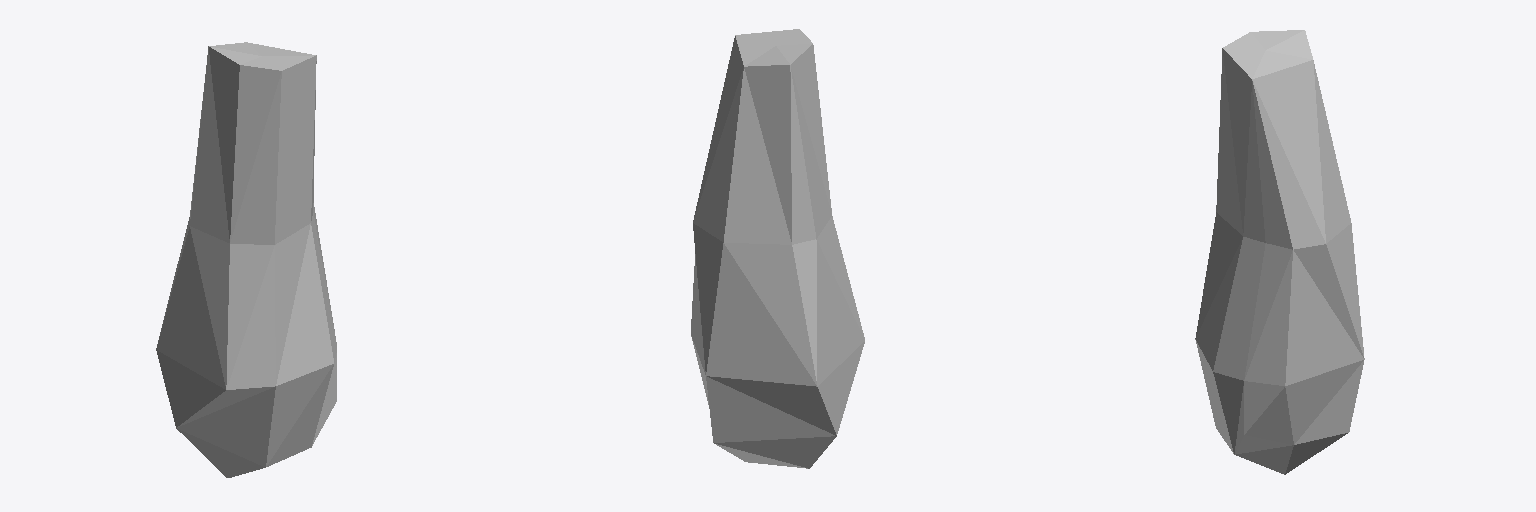
File: model_pillar_2.obj
3 renders of one model, left to right at view 1: azimuth 30°, elevation 25°; view 2: azimuth 150°, elevation 25°; view 3: azimuth 270°, elevation 25°, orthographic.
Visible parts, largest first — view 1: obj_pillar_2; view 2: obj_pillar_2; view 3: obj_pillar_2.
Part boxes in pixels (x1,y1,x2,y2): obj_pillar_2: (156, 42, 336, 477); obj_pillar_2: (691, 29, 864, 468); obj_pillar_2: (1195, 30, 1364, 474).
Bounding box in the file's own units: 6.49 × 17.37 × 6.37.